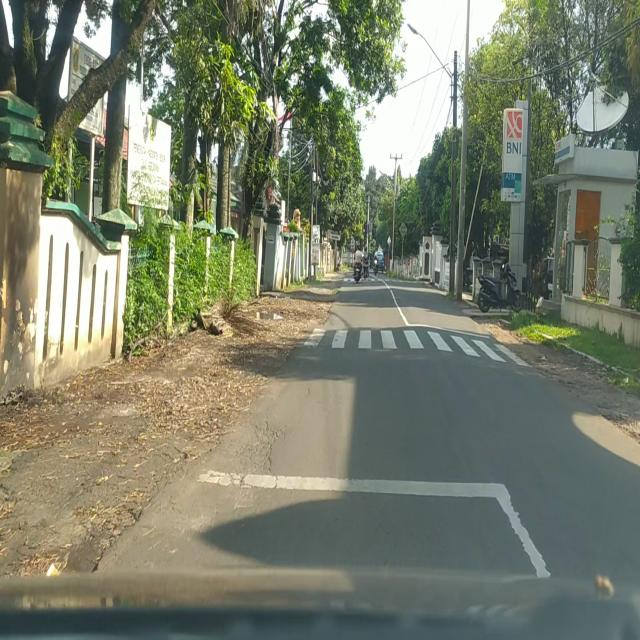Drain Hole: (238, 423, 283, 474)
